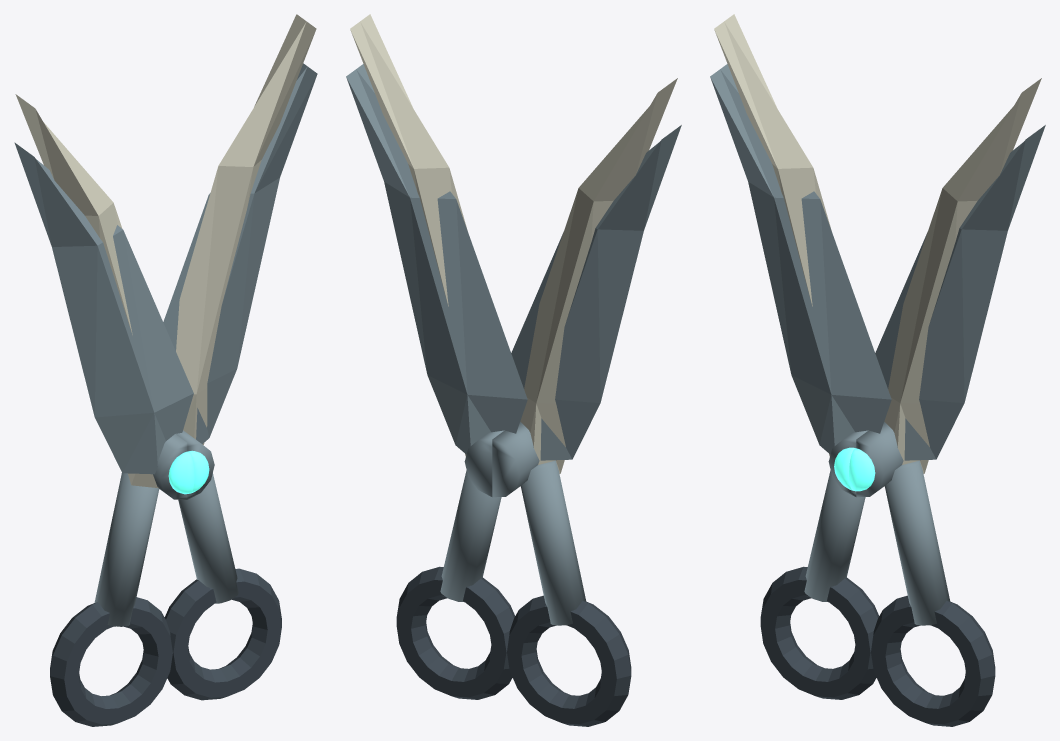
Rendered from YK_04_Mes_Weapon_E01.glb.
The picture shows the model from 3 angles, left to right: view 1: azimuth 30°, elevation 25°; view 2: azimuth 150°, elevation 25°; view 3: azimuth 330°, elevation 25°; orthographic projection.
Visible parts, largest first — view 1: SM_YK_04_Mes_Weapon_P00_R, SM_YK_04_Mes_Weapon_P01_L, SM_YK_04_Mes_Weapon_P00_L, SM_YK_04_Mes_Weapon_P01_R; view 2: SM_YK_04_Mes_Weapon_P00_L, SM_YK_04_Mes_Weapon_P00_R, SM_YK_04_Mes_Weapon_P01_R, SM_YK_04_Mes_Weapon_P01_L; view 3: SM_YK_04_Mes_Weapon_P00_R, SM_YK_04_Mes_Weapon_P01_L, SM_YK_04_Mes_Weapon_P00_L, SM_YK_04_Mes_Weapon_P01_R.
Boxes of the visible parts, x1,y1,x2,y2 form: SM_YK_04_Mes_Weapon_P00_R: [164, 14, 316, 700]; SM_YK_04_Mes_Weapon_P01_L: [14, 142, 177, 474]; SM_YK_04_Mes_Weapon_P00_L: [15, 94, 194, 726]; SM_YK_04_Mes_Weapon_P01_R: [163, 63, 317, 444]; SM_YK_04_Mes_Weapon_P00_L: [492, 78, 677, 726]; SM_YK_04_Mes_Weapon_P00_R: [350, 14, 514, 699]; SM_YK_04_Mes_Weapon_P01_R: [346, 64, 521, 454]; SM_YK_04_Mes_Weapon_P01_L: [502, 125, 681, 460]; SM_YK_04_Mes_Weapon_P00_R: [849, 78, 1041, 726]; SM_YK_04_Mes_Weapon_P01_L: [710, 64, 885, 454]; SM_YK_04_Mes_Weapon_P00_L: [714, 14, 878, 699]; SM_YK_04_Mes_Weapon_P01_R: [866, 125, 1045, 460].
Size of the model in its own units: 0.6 by 1.25 by 0.175.
